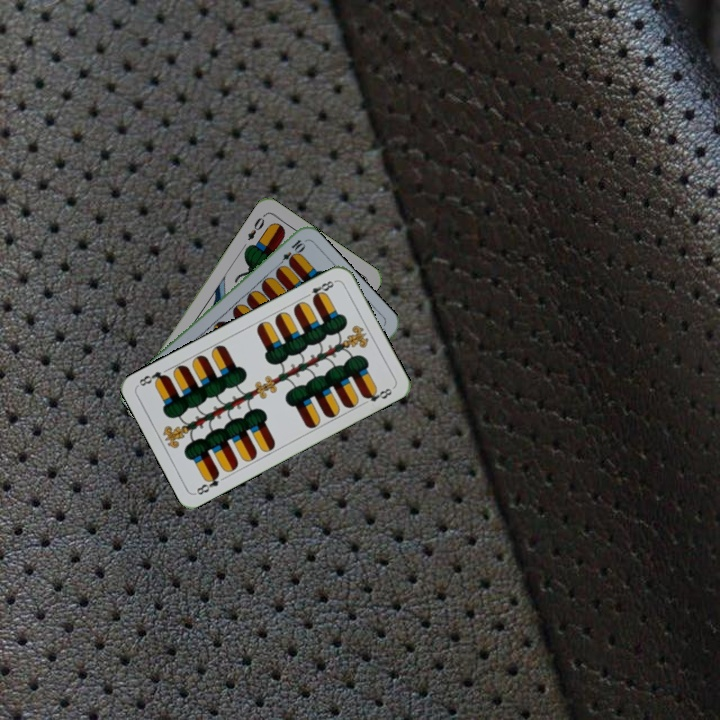E10: (273, 235, 307, 270)
E8: (301, 276, 339, 303), (192, 468, 222, 498)
EO: (243, 211, 268, 243)
